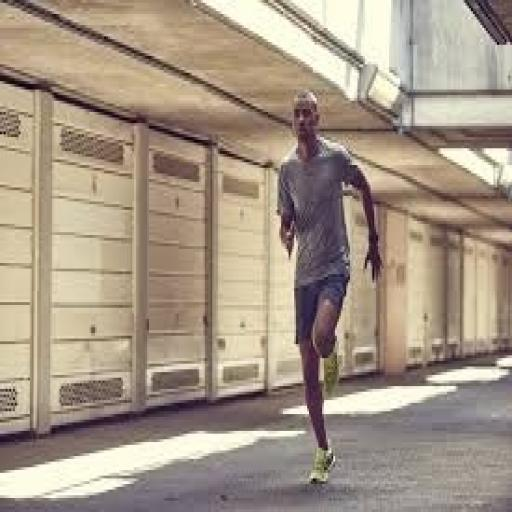running: (274, 86, 385, 490)
